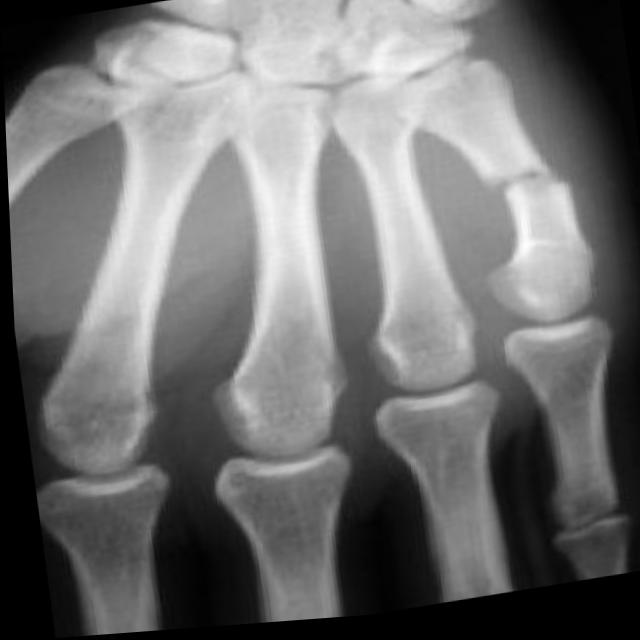fracture: (458, 149, 598, 230)
